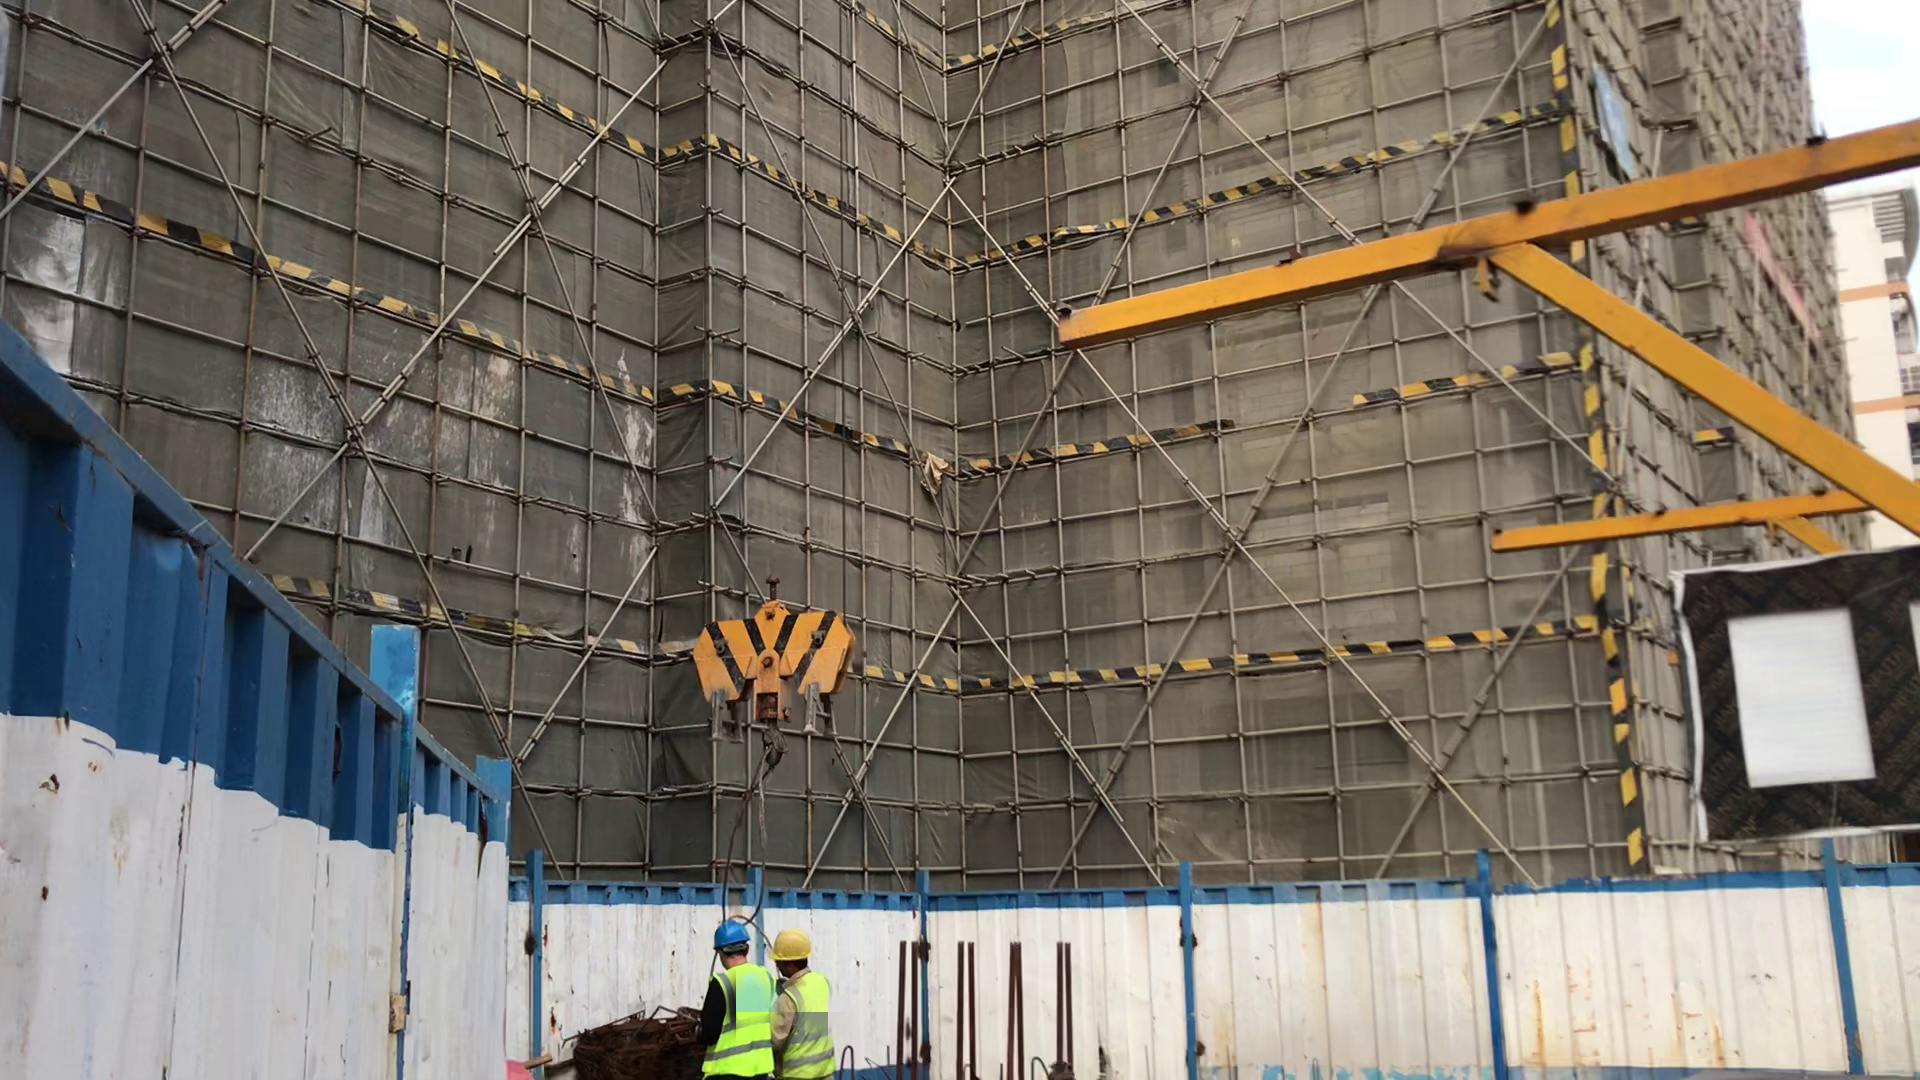helmet: (772, 925, 812, 964), (710, 920, 752, 952)
person: (699, 920, 777, 1080), (775, 922, 834, 1080)
vest: (705, 965, 773, 1080), (784, 974, 834, 1080)
